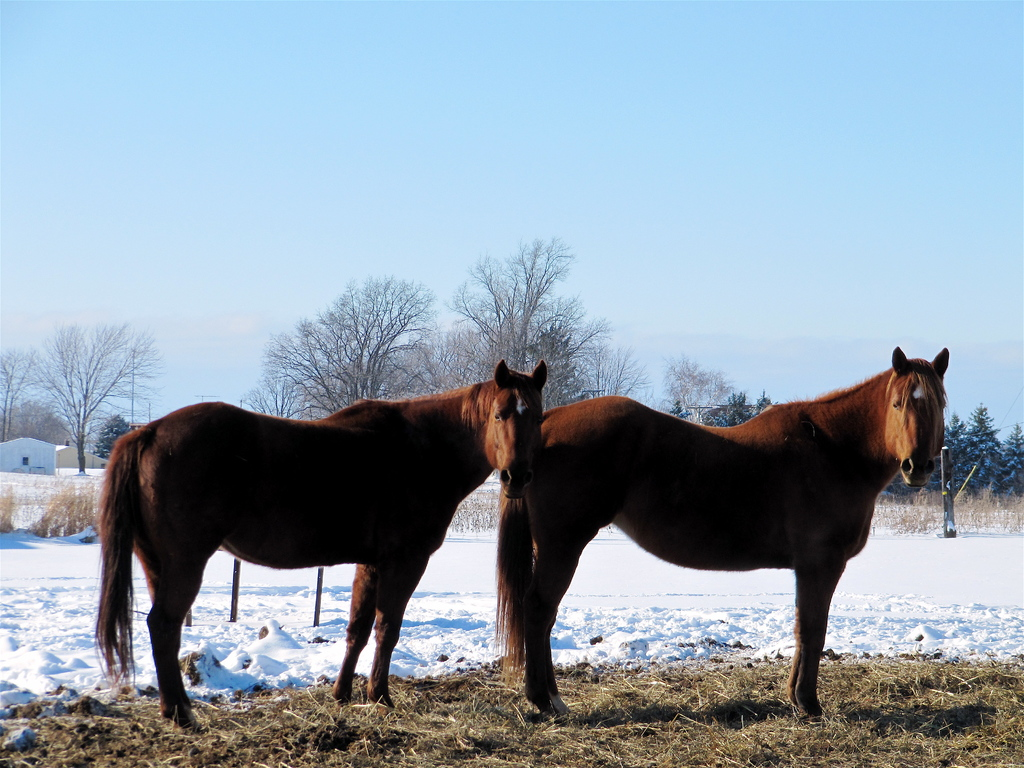horse: (88, 353, 549, 730)
